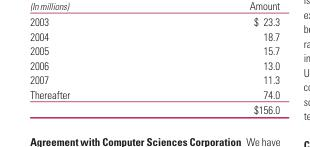table: (29, 29, 279, 115)
table column: (29, 29, 161, 115), (161, 29, 279, 115)
table row: (29, 42, 279, 57), (29, 71, 279, 86), (29, 86, 279, 101), (29, 57, 279, 71), (29, 101, 279, 115), (29, 29, 279, 42)
